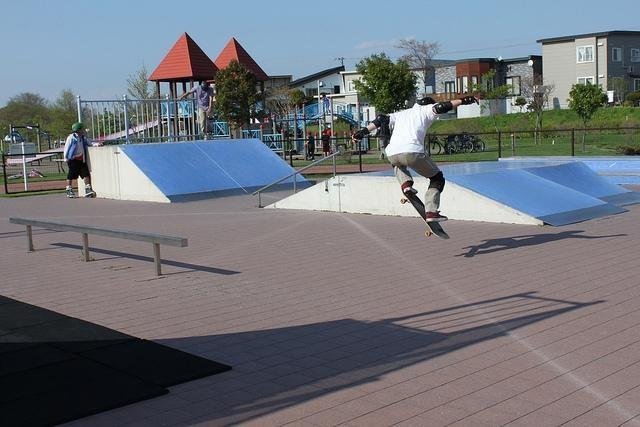bicycle: (429, 130, 449, 155), (456, 132, 474, 154), (446, 134, 458, 155), (472, 139, 487, 153), (468, 136, 474, 142)
